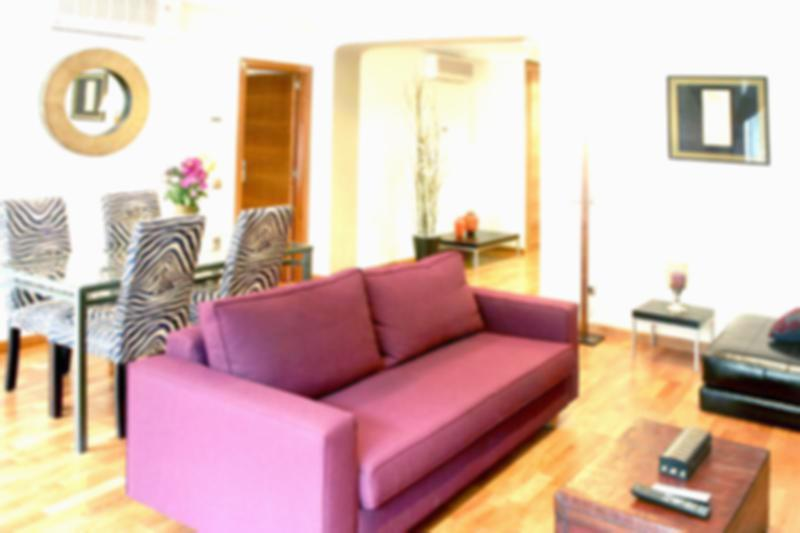Matera: (406, 74, 446, 249)
Otro Obstaculo: (543, 99, 624, 363)
